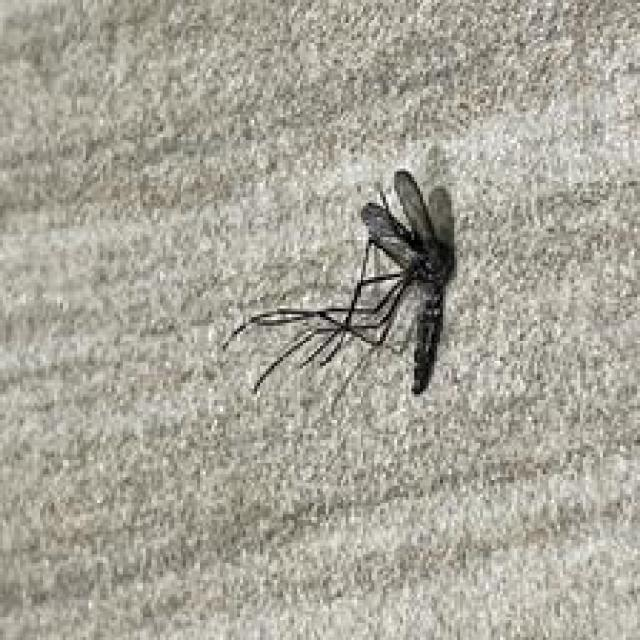Aedes albopictus: (220, 167, 460, 410)
